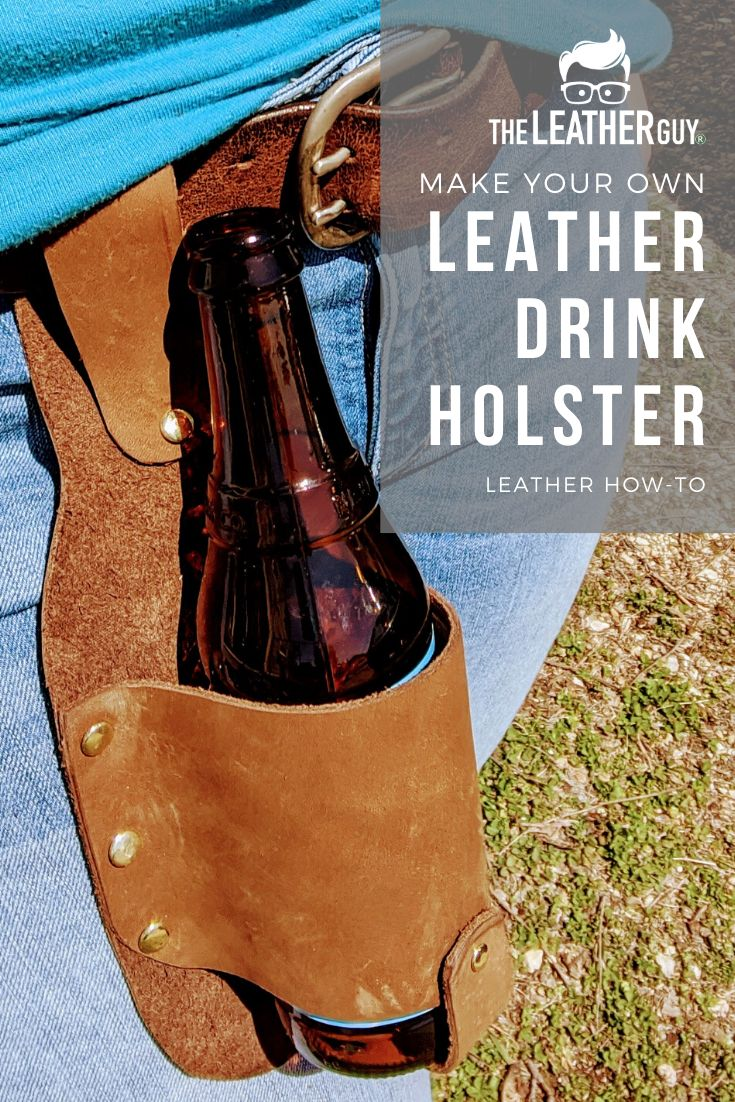cuero: (22, 37, 518, 1085)
